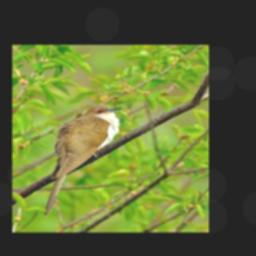Cuckoo: (42, 104, 123, 216)
